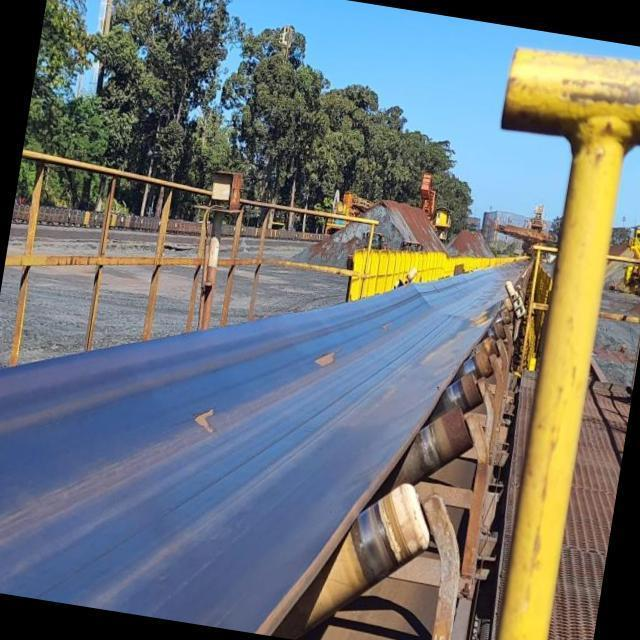Tear: (178, 376, 238, 449), (302, 334, 348, 382)
